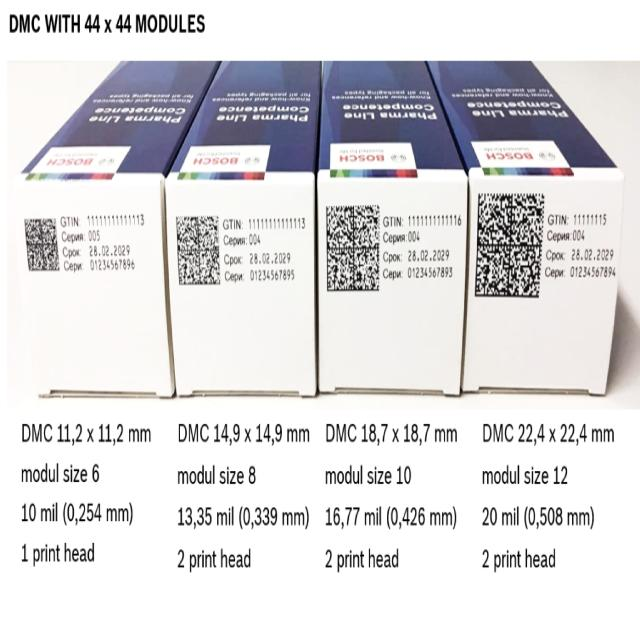datamatrix: (470, 186, 548, 304), (322, 200, 382, 298), (172, 210, 220, 296), (22, 209, 59, 279)
